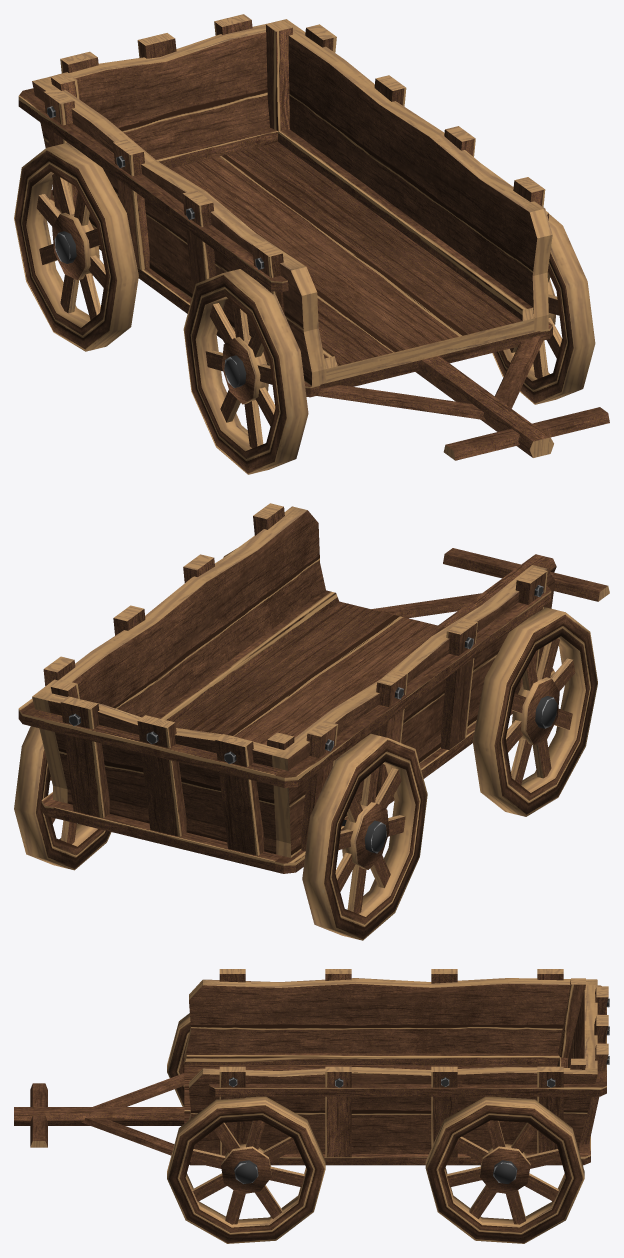
The model's file is Cart3.fbx.
The picture shows the model from 3 angles, top to bottom: view 1: azimuth 30°, elevation 25°; view 2: azimuth 150°, elevation 25°; view 3: azimuth 270°, elevation 25°; orthographic projection. The views are drawn at different scales.
Parts seen in each view (by area): view 1: Cart3; view 2: Cart3; view 3: Cart3.
Part boxes in pixels (box(x1,y1,x2,y2)): Cart3: box(14, 14, 609, 474); Cart3: box(14, 503, 609, 940); Cart3: box(14, 969, 609, 1243).
Size of the model in its own units: 155 by 103 by 335.
